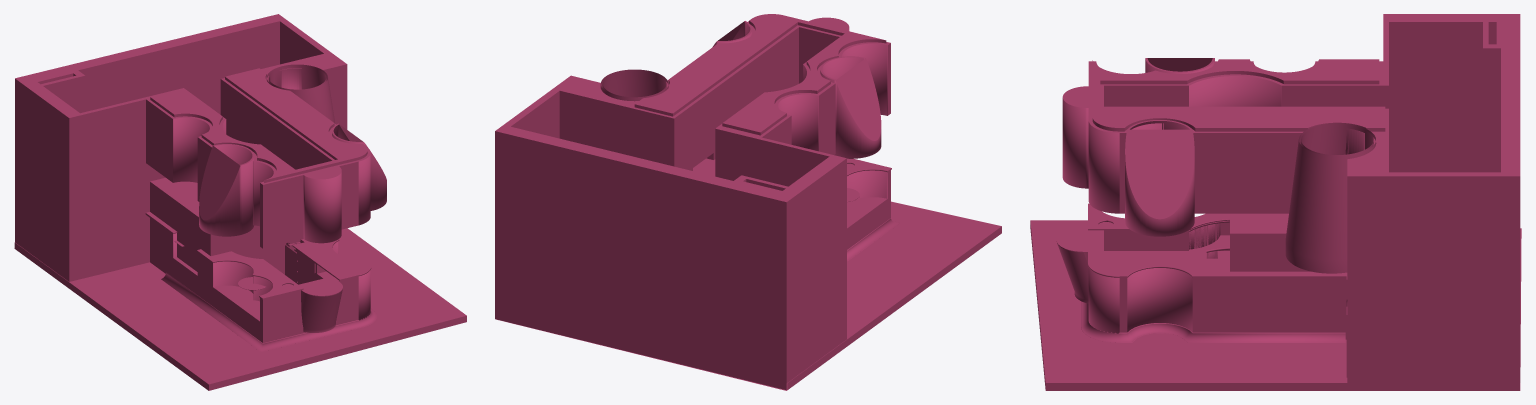
Rendered from asset.glb.
The picture shows the model from 3 angles, left to right: view 1: azimuth 30°, elevation 25°; view 2: azimuth 150°, elevation 25°; view 3: azimuth 270°, elevation 25°; orthographic projection. The views are drawn at different scales.
Parts seen in each view (by area): view 1: the final model, Cube; view 2: the final model; view 3: the final model, Cube.
Part boxes in pixels (bbox=[...]): the final model: bbox=[14, 14, 466, 390]; Cube: bbox=[150, 177, 286, 274]; the final model: bbox=[495, 14, 1001, 390]; the final model: bbox=[1030, 14, 1521, 390]; Cube: bbox=[1230, 213, 1310, 271].
Size of the model in its own units: 4.98 by 3.12 by 6.36.
